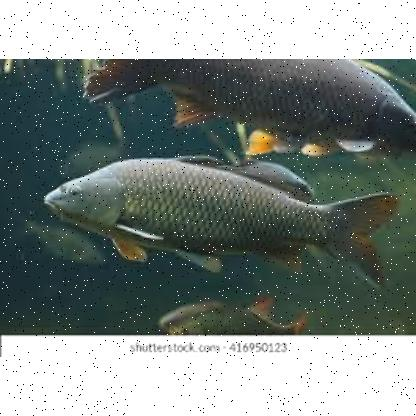ikan-mas: (40, 155, 394, 276), (83, 58, 415, 148)
